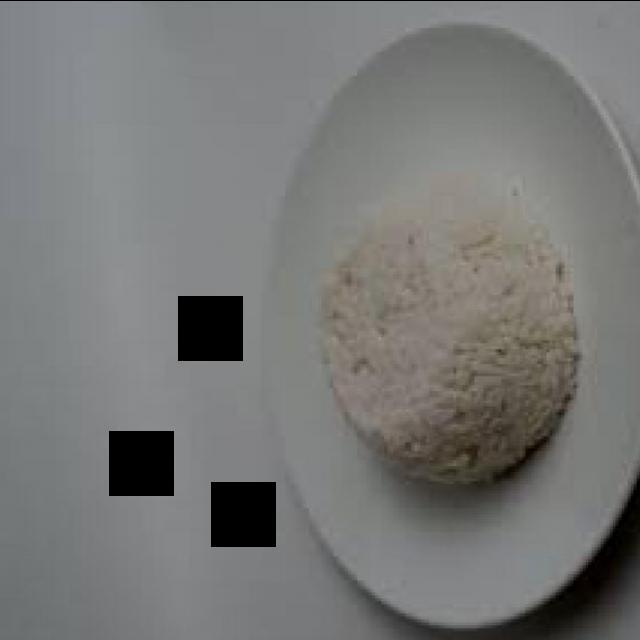rice: (317, 178, 583, 486)
